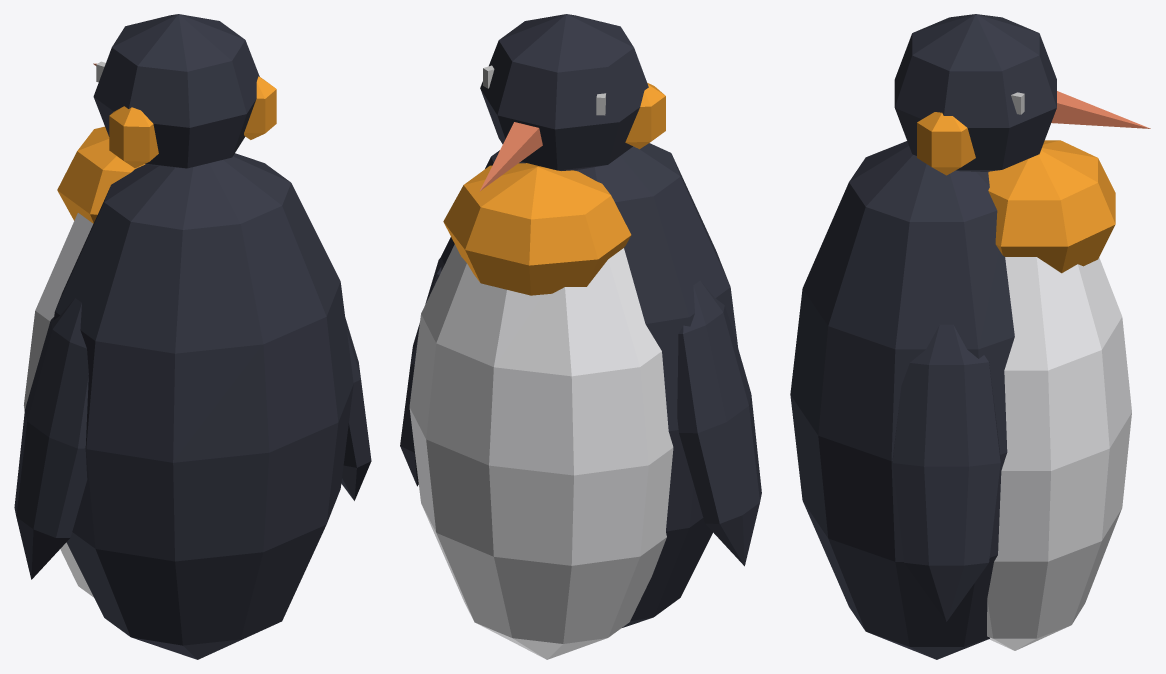
The model's file is animal_penguin.obj.
3 renders of one model, left to right at view 1: azimuth 30°, elevation 25°; view 2: azimuth 150°, elevation 25°; view 3: azimuth 270°, elevation 25°, orthographic. The views are drawn at different scales.
Visible parts, largest first — view 1: animal_penguin; view 2: animal_penguin; view 3: animal_penguin.
Part boxes in pixels (box(x1,y1,x2,y2)): animal_penguin: box(14, 14, 371, 659); animal_penguin: box(400, 14, 761, 659); animal_penguin: box(790, 14, 1150, 659).
Bounding box in the file's own units: 0.4064 × 0.73 × 0.37.
